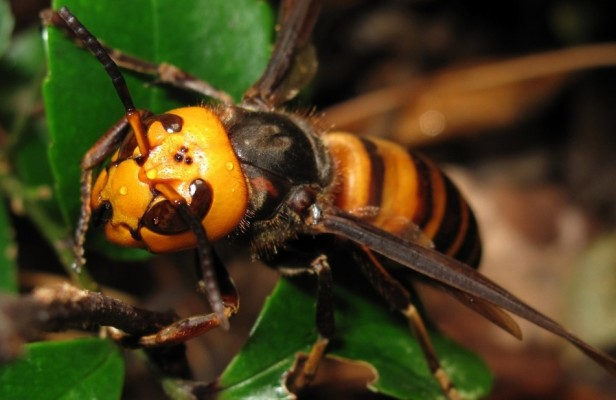asian_giant_hornet: (62, 7, 484, 321)
